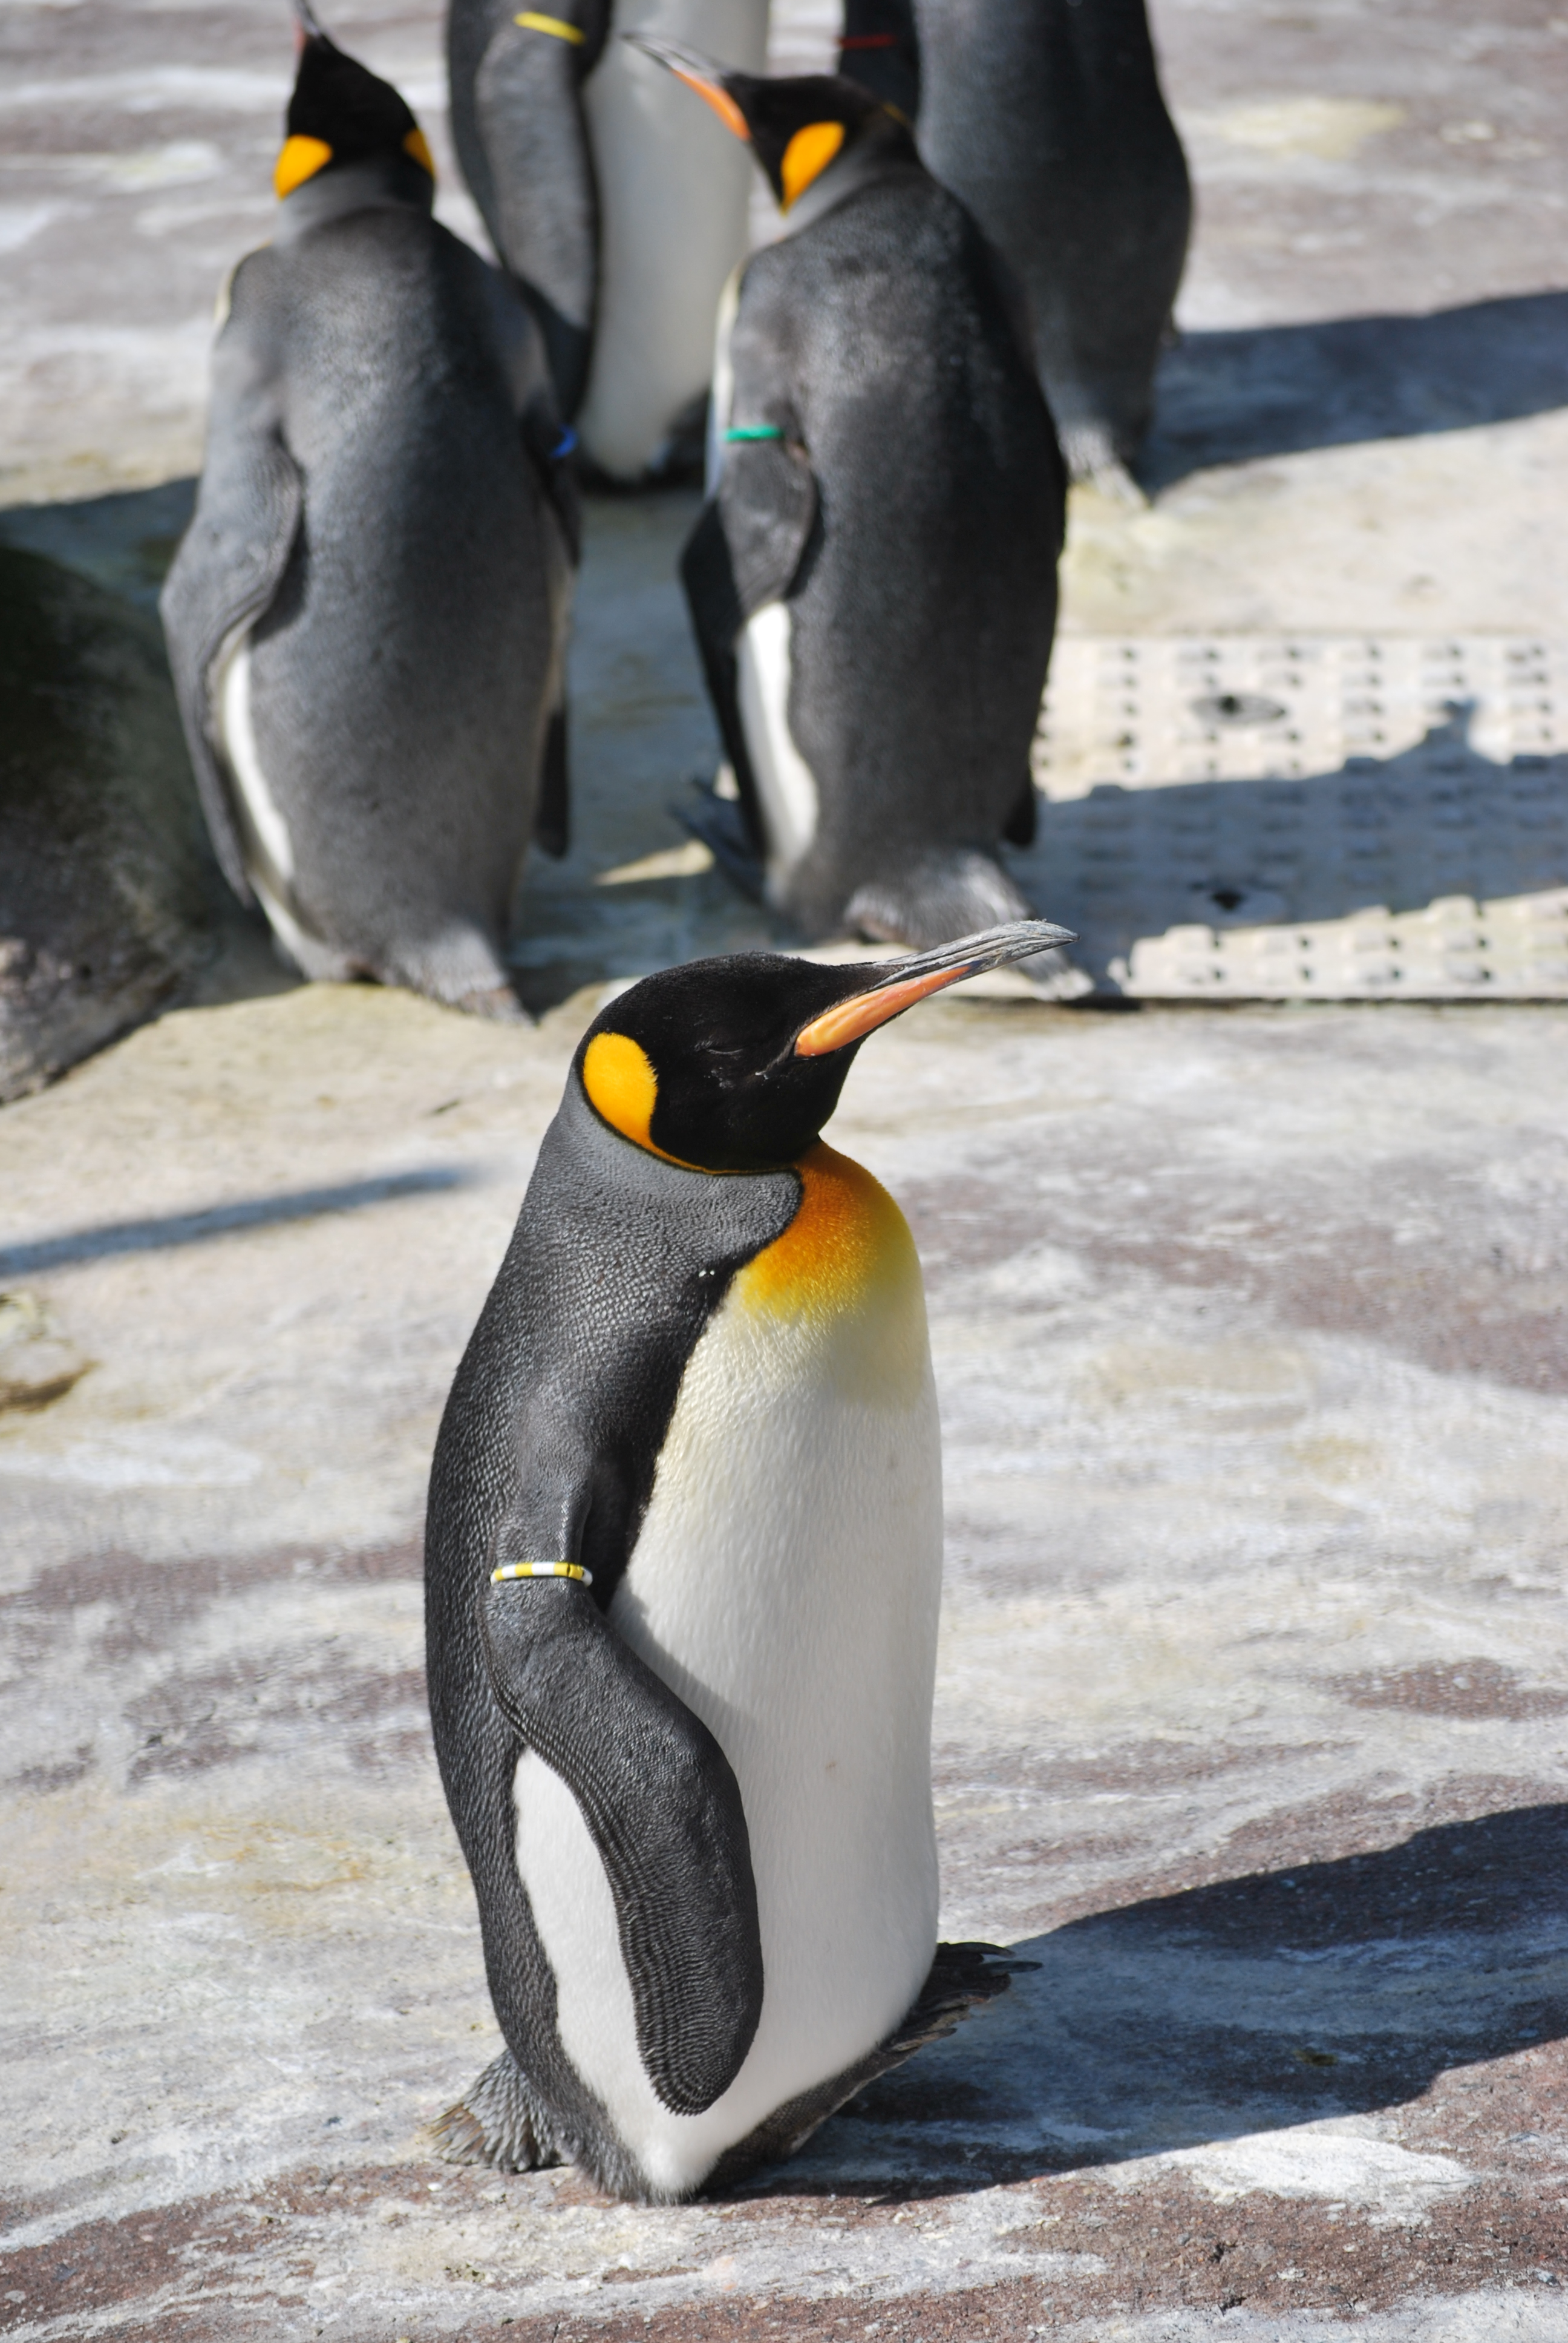penguin: (474, 917, 1123, 2233), (163, 2, 579, 1038), (625, 12, 1062, 987)
